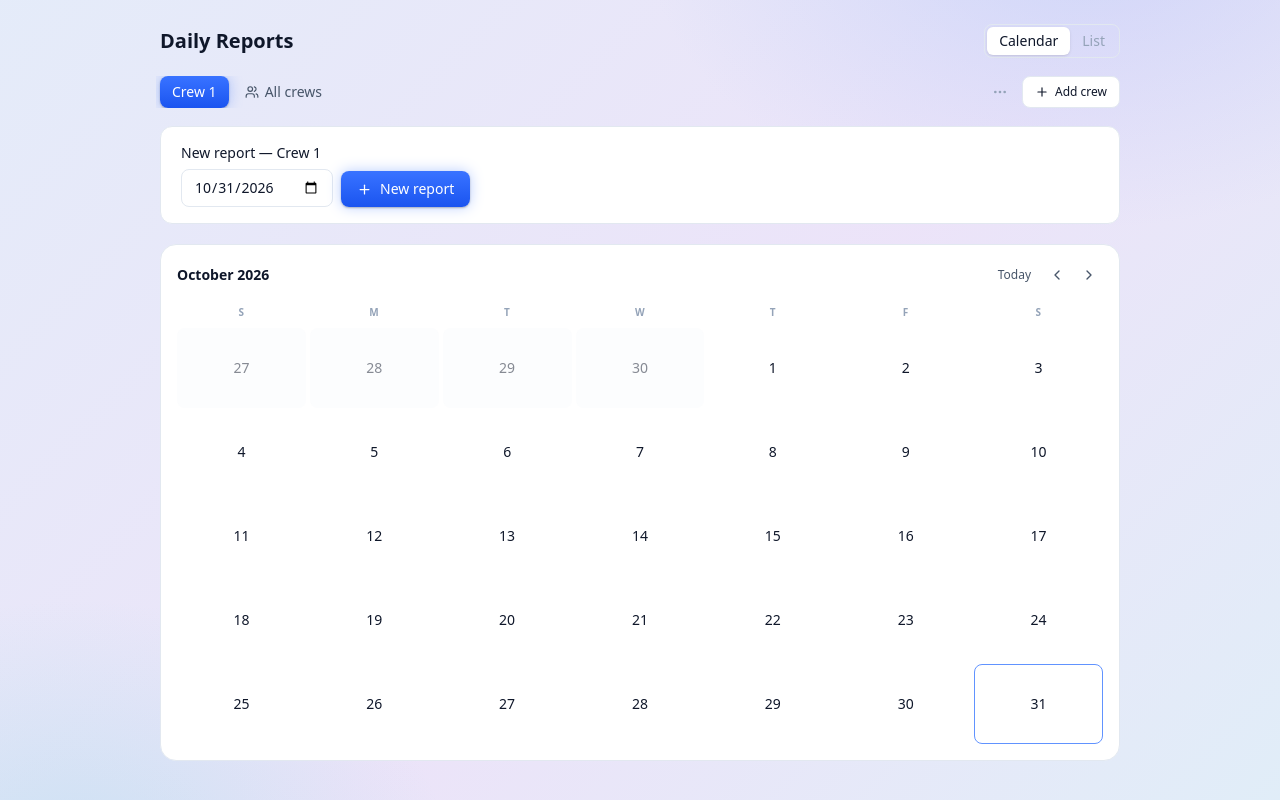
it: ProjectDailyReports — calendar/list view toggle › toggling to List shows the table and persists the choice
Expected: the element with test id "daily-calendar" is shown, [160,244,1120,761]
What coordinates should you click on to do the following:
click the tab "List"
I would click on:
 (1094, 41)
Its box is [1070,27,1117,55].
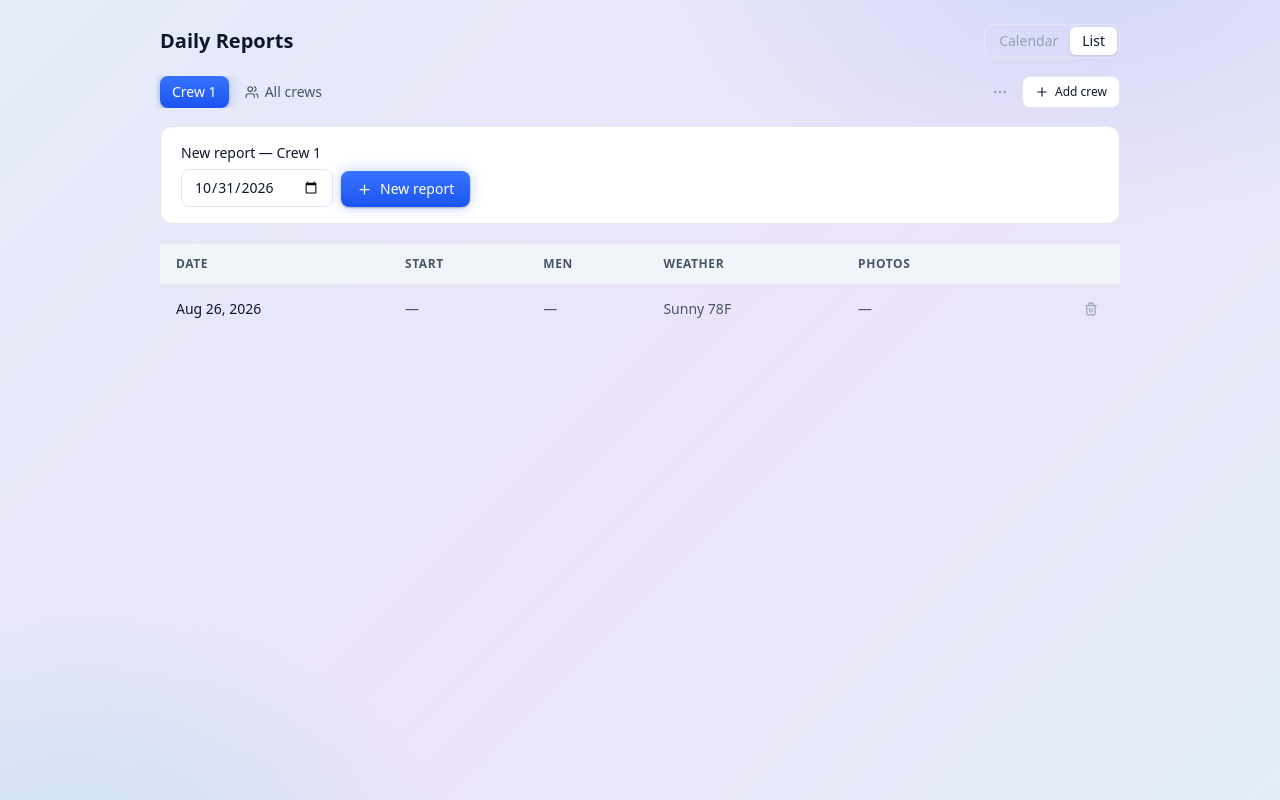
Result: the table is shown at [160,244,1120,334]
Result: the element with test id "daily-calendar" is gone
